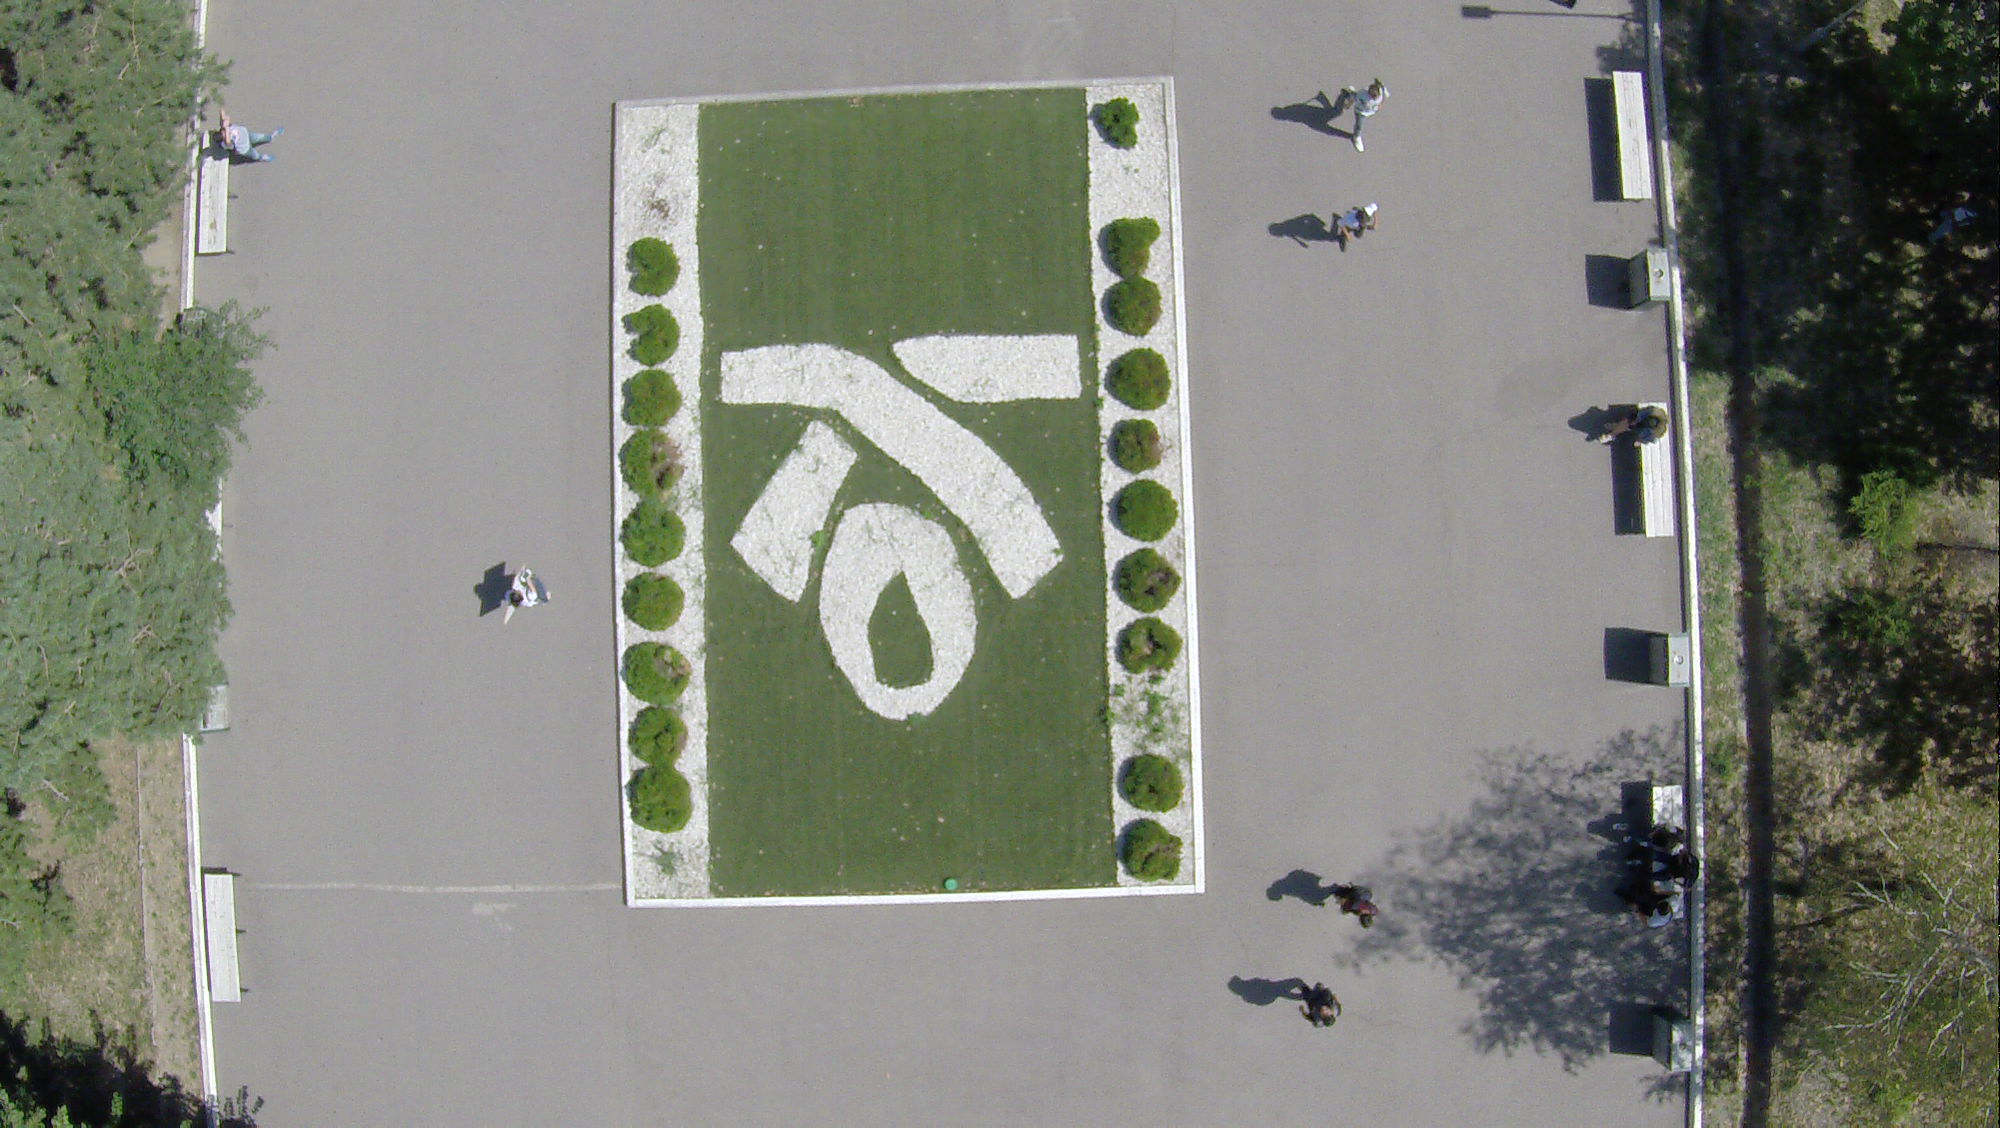person: (205, 109, 287, 165), (1338, 75, 1392, 154), (500, 563, 551, 629), (1616, 884, 1683, 931), (1630, 847, 1701, 888), (1336, 197, 1381, 253), (1301, 979, 1344, 1032), (1333, 879, 1377, 929), (1636, 822, 1695, 851)
